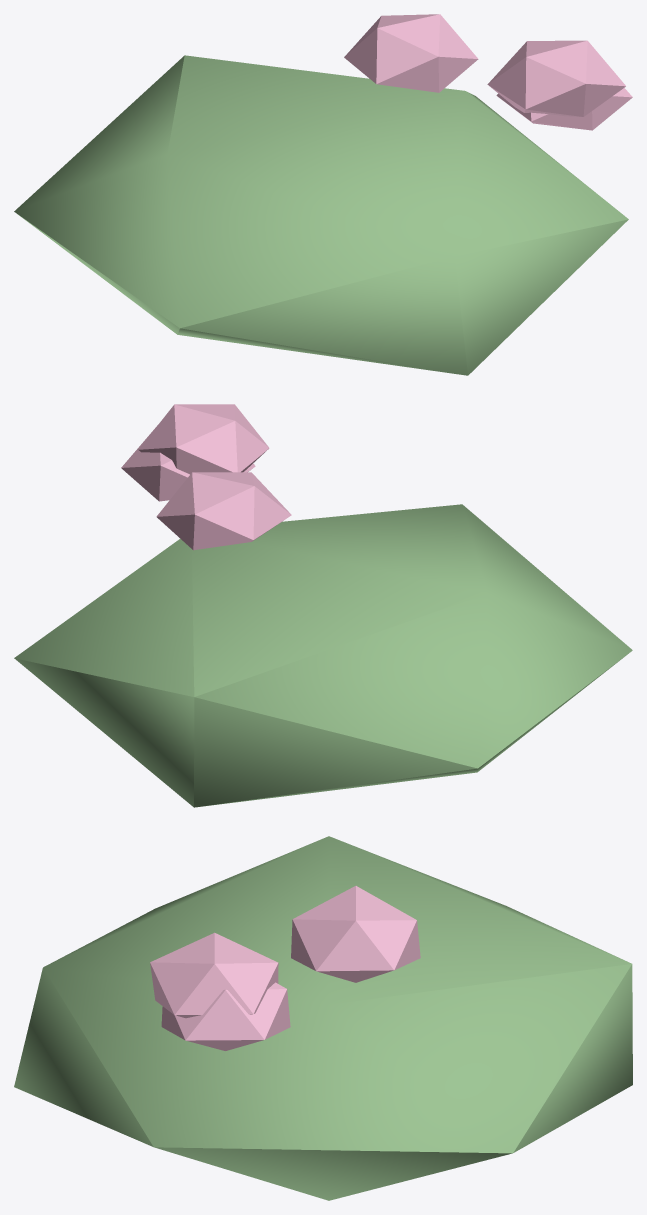
File: flowers-far.glb
3 views of the same model, one above another, from view 1: azimuth 30°, elevation 25°; view 2: azimuth 150°, elevation 25°; view 3: azimuth 270°, elevation 25° (orthographic). The views are drawn at different scales.
Visible parts, largest first — view 1: flowers-far; view 2: flowers-far; view 3: flowers-far.
Boxes of the visible parts, x1=… form: flowers-far: x1=14, y1=14, x2=632, y2=375; flowers-far: x1=14, y1=404, x2=632, y2=807; flowers-far: x1=14, y1=836, x2=632, y2=1200.
Bounding box in the file's own units: 1.8 × 0.9051 × 1.88.
